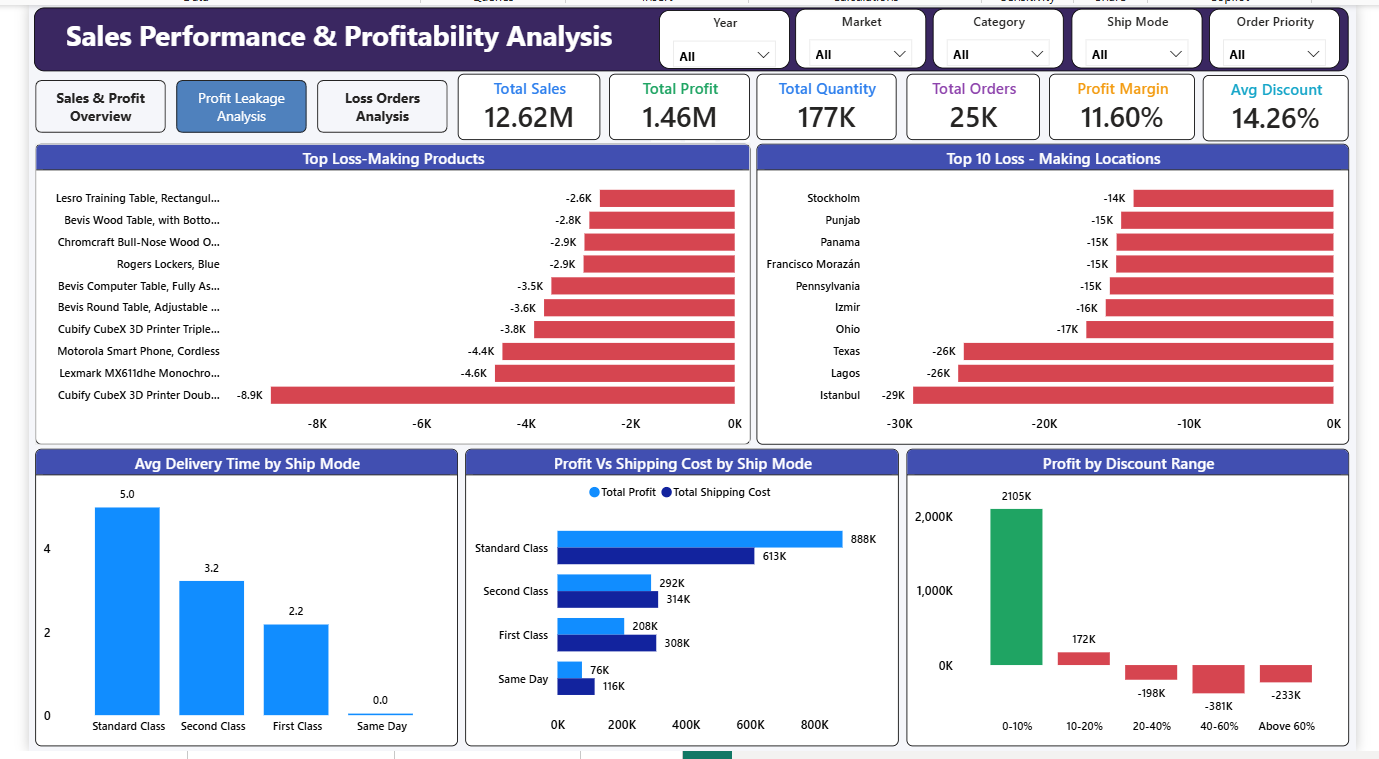

Layout of this report page (visuals, bound fields, positions):
{"tool":"powerbi","page":{"name":"Profit Leakage Analysis","canvas":[1280,720],"ordinal":1},"visuals":[{"type":"barChart","title":"Top Loss-Making Products","fields":{"Category":["sales_data.product_name"],"Y":["sales_data.Total Profit"]},"box":[6,133.9,690.1,290.8],"z":0},{"type":"clusteredBarChart","title":"Profit Vs Shipping Cost by Ship Mode","fields":{"Y":["sales_data.Total Profit","sales_data.Total Shipping Cost"],"Category":["sales_data.ship_mode"]},"box":[421,428.3,418.6,287.1],"z":1000},{"type":"columnChart","title":"Avg Delivery Time by Ship Mode","fields":{"Category":["sales_data.ship_mode"],"Y":["sales_data.Avg Delivery Days"]},"box":[6,428.3,407.8,287.1],"z":2000},{"type":"barChart","title":"Top 10 Loss - Making Locations","fields":{"Category":["sales_data.state"],"Y":["sales_data.Total Profit"]},"box":[702.1,133.9,571.9,290.8],"z":3000},{"type":"textbox","box":[4.8,2.4,1269.2,61.5],"z":4000},{"type":"slicer","title":"Category","fields":{"Values":["sales_data.category"]},"box":[872.3,3.6,126.7,57.9],"z":5000},{"type":"slicer","title":"Ship Mode","fields":{"Values":["sales_data.ship_mode"]},"box":[1006.2,3.6,126.7,57.9],"z":6000},{"type":"slicer","title":"Order Priority","fields":{"Values":["sales_data.order_priority"]},"box":[1138.9,3.6,126.7,57.9],"z":7000},{"type":"slicer","title":"Market","fields":{"Values":["sales_data.market"]},"box":[739.5,3.6,126.7,57.9],"z":8000},{"type":"pageNavigator","box":[6,72.4,399.3,51.9],"z":9000},{"type":"card","title":"Total Sales","fields":{"Values":["sales_data.Total Sales"]},"box":[413.8,66.4,137.5,63.9],"z":10000},{"type":"card","title":"Total Profit","fields":{"Values":["sales_data.Total Profit"]},"box":[559.8,66.4,136.3,63.9],"z":11000},{"type":"card","title":"Total Orders","fields":{"Values":["sales_data.Total Orders"]},"box":[846.9,66.4,129.1,63.9],"z":12000},{"type":"card","title":"Total Quantity","fields":{"Values":["sales_data.Total Quantity"]},"box":[702.1,66.4,135.1,63.9],"z":13000},{"type":"card","title":"Profit Margin","fields":{"Values":["sales_data.Profit Margin"]},"box":[984.5,66.4,141.2,63.9],"z":14000},{"type":"card","title":"Avg Discount","fields":{"Values":["sales_data.Avg Discount"]},"box":[1132.8,67.6,141.2,63.9],"z":15000},{"type":"clusteredColumnChart","title":"Profit by Discount Range","fields":{"Category":["sales_data.Discount Range"],"Y":["sales_data.Total Profit"]},"box":[846.9,428.3,427.1,287.1],"z":16000},{"type":"slicer","title":"Year","fields":{"Values":["sales_data.Year"]},"box":[608,4.8,126.7,56.7],"z":16001}]}

Visuals, with their boxes in screenshot pixels (x1, y1, x2, y2), scaled from the page's 1280x720 canvas onto the 1379x759 screenshot:
"Top Loss-Making Products" barChart: Rect(6, 141, 750, 448)
"Profit Vs Shipping Cost by Ship Mode" clusteredBarChart: Rect(454, 451, 905, 754)
"Avg Delivery Time by Ship Mode" columnChart: Rect(6, 451, 446, 754)
"Top 10 Loss - Making Locations" barChart: Rect(756, 141, 1373, 448)
textbox: Rect(5, 3, 1373, 67)
"Category" slicer: Rect(940, 4, 1076, 65)
"Ship Mode" slicer: Rect(1084, 4, 1221, 65)
"Order Priority" slicer: Rect(1227, 4, 1363, 65)
"Market" slicer: Rect(797, 4, 933, 65)
pageNavigator: Rect(6, 76, 437, 131)
"Total Sales" card: Rect(446, 70, 594, 137)
"Total Profit" card: Rect(603, 70, 750, 137)
"Total Orders" card: Rect(912, 70, 1051, 137)
"Total Quantity" card: Rect(756, 70, 902, 137)
"Profit Margin" card: Rect(1061, 70, 1213, 137)
"Avg Discount" card: Rect(1220, 71, 1373, 139)
"Profit by Discount Range" clusteredColumnChart: Rect(912, 451, 1373, 754)
"Year" slicer: Rect(655, 5, 792, 65)
